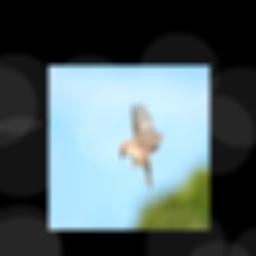Sparrow: (119, 103, 163, 190)
